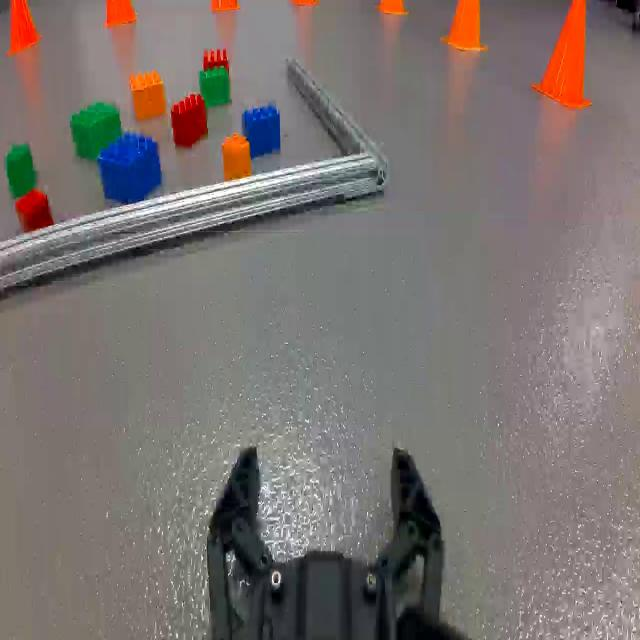blue: (101, 133, 163, 204), (242, 103, 280, 152)
cone: (533, 1, 597, 110), (442, 3, 488, 55), (9, 0, 45, 60), (103, 0, 135, 29), (376, 2, 410, 19), (210, 0, 240, 17)
green: (70, 104, 121, 155), (7, 142, 35, 192), (199, 65, 230, 103)
metal barrier: (0, 57, 389, 298)
orange: (130, 70, 164, 119), (221, 134, 252, 180)
red goal: (172, 93, 206, 150), (15, 192, 52, 236), (204, 47, 228, 77)
